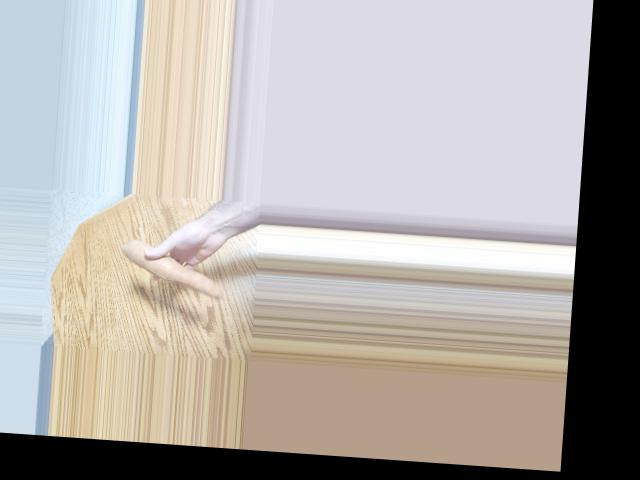sweet_potato: (115, 250, 227, 292)
